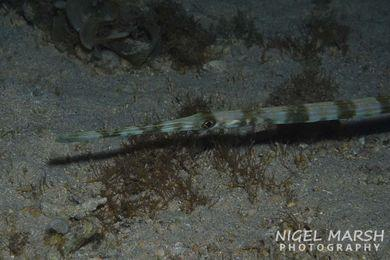Fistularia commersonii: (54, 94, 386, 146)
